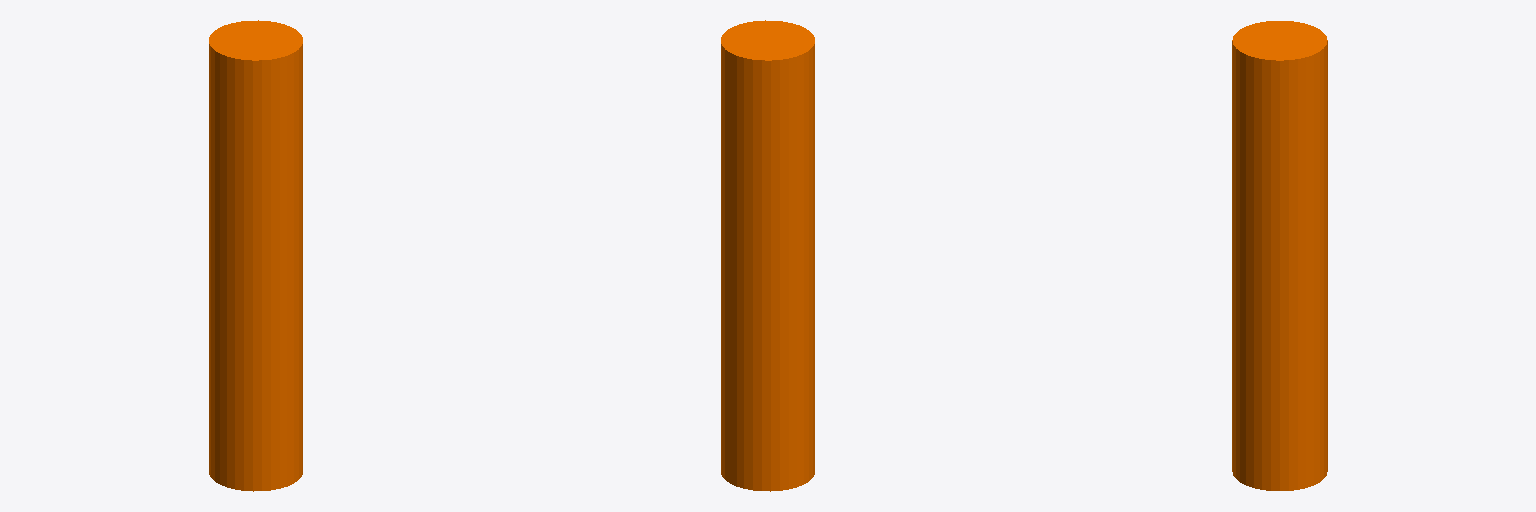
URDF robot description (cylinder):
<?xml version='1.0' encoding='UTF-8'?>
<robot name="cylinder">
  <link name="base_link">
    <inertial>
      <origin xyz="0.0 0.0 0.0" rpy="0.0 -0.0 0.0"/>
      <mass value="1.0"/>
      <inertia ixx="1.0" ixy="0.0" ixz="0.0" iyy="1.0" iyz="0.0" izz="1.0"/>
    </inertial>
    <visual>
      <geometry>
        <cylinder length="2.0" radius="0.2"/>
      </geometry>
      <material name="orange">
        <color rgba="1.0 0.5 0.0 1.0"/>
      </material>
      <origin xyz="0 0 1.0" rpy="0 0 0"/>
    </visual>
    <collision>
      <geometry>
        <cylinder length="2.0" radius="0.2"/>
      </geometry>
      <origin xyz="0 0 1.0" rpy="0 0 0"/>
    </collision>
  </link>
</robot>

--- Facts derived from the render (not from the file) ---
3 views of the same robot in one strip: view 1: azimuth 30°, elevation 25°; view 2: azimuth 150°, elevation 25°; view 3: azimuth 270°, elevation 25° (orthographic).
Robot: cylinder — 1 links, 0 joints (none); root link base_link; default pose: all joints at 0.
Visible links, largest first — view 1: base_link; view 2: base_link; view 3: base_link.
Link boxes in pixels (left/top/right/bottom): base_link: left=209, top=20, right=302, bottom=491; base_link: left=721, top=20, right=814, bottom=491; base_link: left=1232, top=21, right=1327, bottom=490.
Bounding box of the posed robot: 0.4 × 0.4 × 2 m (x, y, z).
Geometry: primitives only (box / cylinder / sphere), no mesh files.